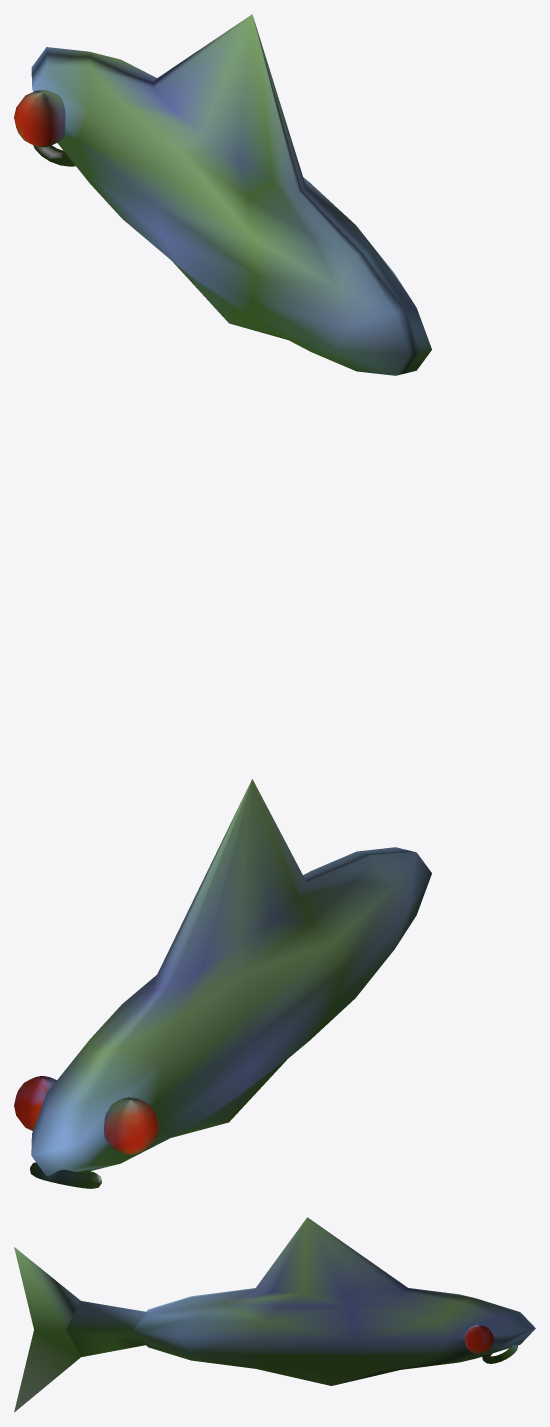
File: zooper.glb
The picture shows the model from 3 angles, top to bottom: view 1: azimuth 30°, elevation 25°; view 2: azimuth 150°, elevation 25°; view 3: azimuth 270°, elevation 25°; orthographic projection. The views are drawn at different scales.
Parts seen in each view (by area): view 1: Zooper; view 2: Zooper; view 3: Zooper.
Part boxes in pixels (left/top/right/bottom): Zooper: left=14, top=14, right=431, bottom=375; Zooper: left=14, top=779, right=431, bottom=1188; Zooper: left=14, top=1217, right=535, bottom=1412.
Bounding box in the file's own units: 0.4696 × 0.7934 × 1.92.
